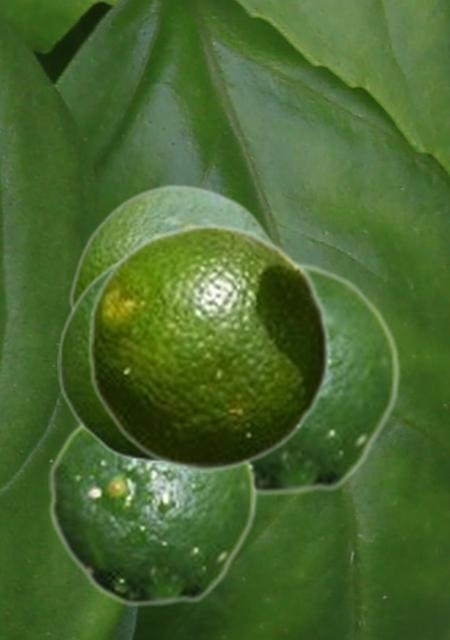calamansi: (86, 223, 331, 471), (48, 423, 257, 607), (254, 262, 400, 496), (68, 182, 277, 311), (57, 253, 158, 463)
